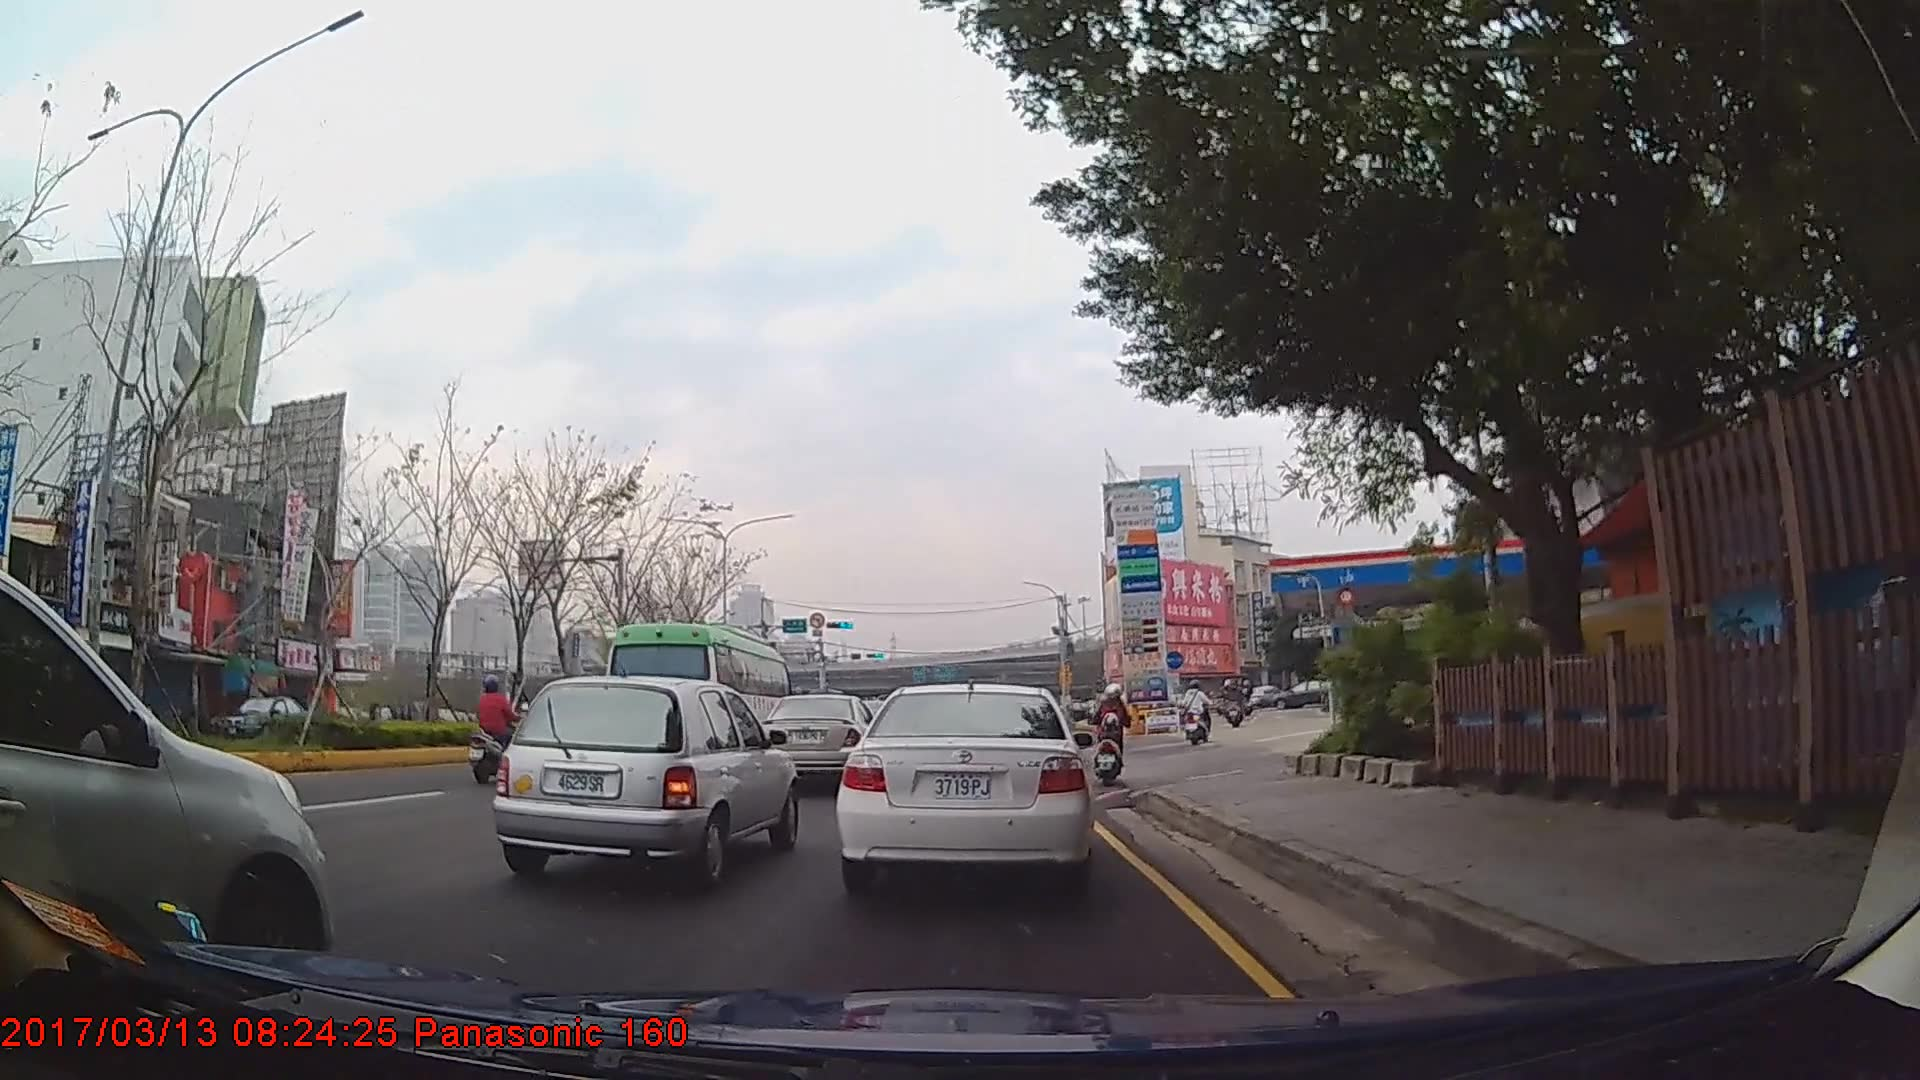rider: (469, 671, 531, 784), (1094, 682, 1131, 781), (1182, 678, 1211, 746), (1226, 676, 1246, 726)
vehicle: (0, 569, 331, 997), (493, 670, 800, 883), (839, 678, 1094, 894), (599, 616, 792, 776), (758, 691, 882, 784), (213, 689, 312, 741), (1269, 676, 1339, 706)
